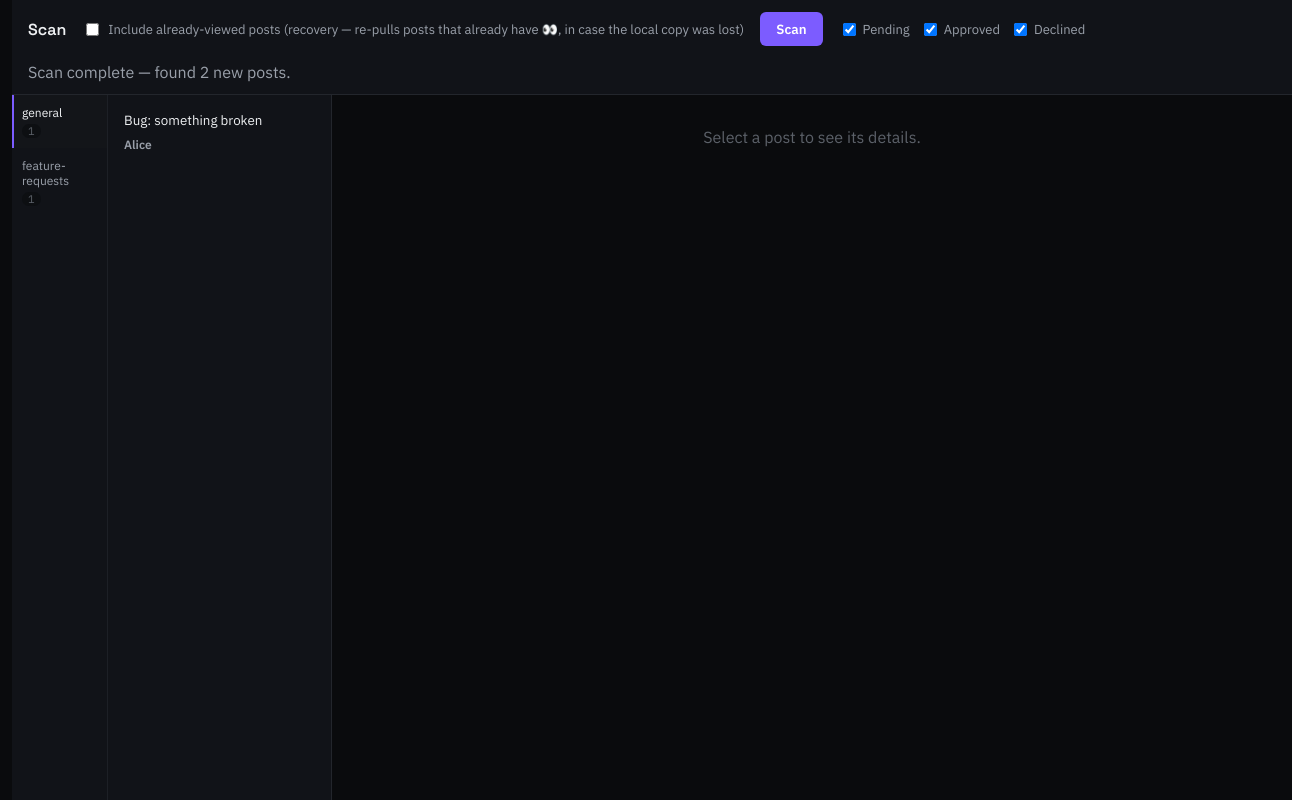
ScanPanel › selecting a different tab filters the visible post list to that forum only
Expected: the button "Bug: something broken" is shown, [116,103,323,137]
Click the tab "feature-requests 1": click(60, 182) [12,148,107,216]
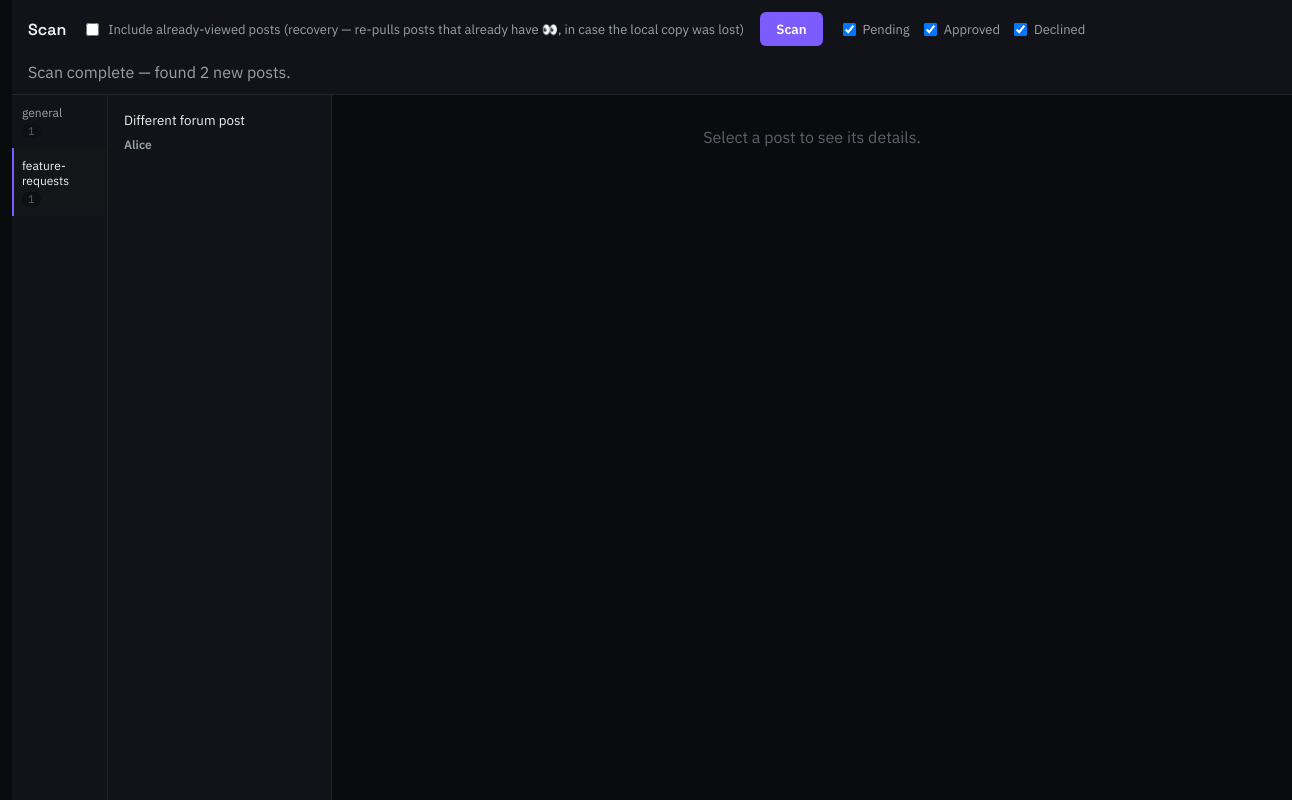
Now the button "Different forum post" is shown, box [116,103,323,137]
Now the button "Bug: something broken" is gone
